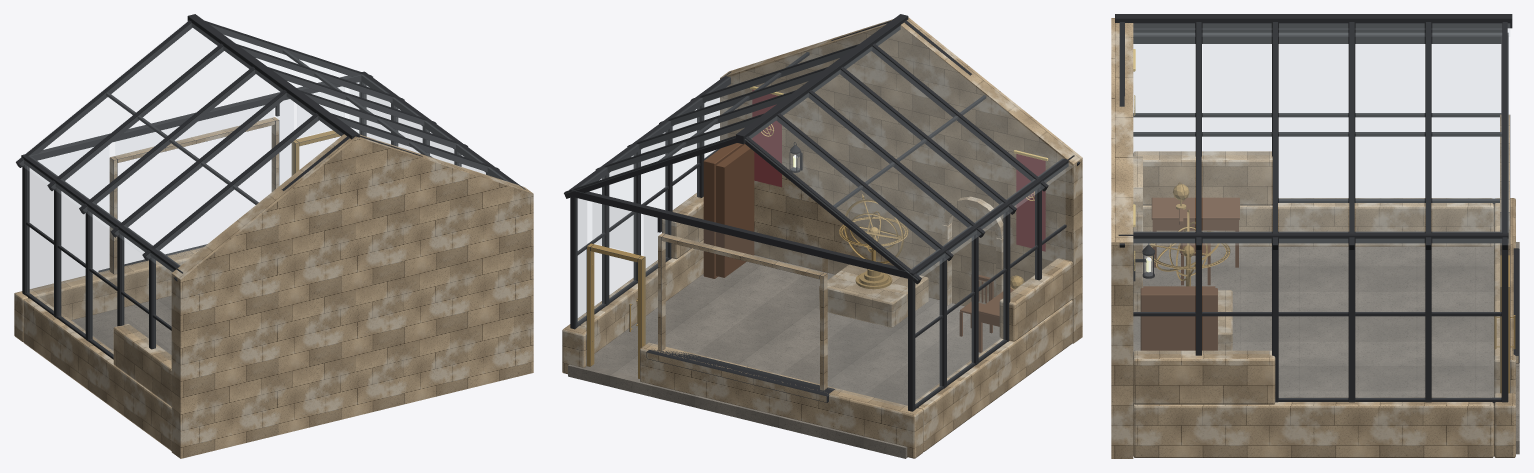
Rendered from sanctuary_observatory.glb.
3 views of the same model, side by side, from view 1: azimuth 30°, elevation 25°; view 2: azimuth 150°, elevation 25°; view 3: azimuth 270°, elevation 25° (orthographic). The views are drawn at different scales.
Visible parts, largest first — view 1: Room_BackWall, Room_Roof, Room_Frame, Room_Walls, Room_Base, Window_Frame, Room_Floor, Door_Frame; view 2: Room_BackWall, Room_Roof, Room_Walls, Room_Frame, Room_Floor, Room_Base, Window_Frame, Study_Bookcase, Plinth, Study_Banners, Door_Frame, Armillary (+3 smaller); view 3: Room_Walls, Room_Roof, Room_Base, Room_Floor, Room_Frame, Room_BackWall, Study_Bookcase, Study_Desk, Window_Frame, Rear_Arch, Armillary, Door_Frame (+2 smaller).
Part boxes in pixels (x1,y1,x2,y2): Room_BackWall: (171,134,533,458); Room_Roof: (18,21,506,274); Room_Frame: (16,14,525,359); Room_Walls: (27,82,485,360); Room_Base: (14,247,203,450); Window_Frame: (98,117,279,274); Room_Floor: (71,296,171,354); Door_Frame: (291,130,340,175); Room_BackWall: (720,17,1082,343); Room_Roof: (582,26,1072,279); Room_Walls: (577,96,1064,407); Room_Frame: (564,14,1080,411); Room_Floor: (568,255,1000,458); Room_Base: (562,193,1072,458); Window_Frame: (646,233,834,402); Study_Bookcase: (703,143,754,278); Plinth: (819,264,928,327); Study_Banners: (752,89,1045,251); Door_Frame: (586,243,645,378); Armillary: (839,194,908,289); Room_Walls: (1134,44,1500,397); Room_Roof: (1133,24,1509,244); Room_Base: (1133,151,1515,457); Room_Floor: (1133,242,1519,454); Room_Frame: (1115,14,1512,403); Room_BackWall: (1111,18,1133,458); Study_Bookcase: (1140,286,1217,350); Study_Desk: (1151,197,1239,267); Window_Frame: (1500,114,1519,363); Rear_Arch: (1133,156,1142,311); Armillary: (1148,209,1230,286); Door_Frame: (1494,255,1515,393).
Bounding box in the file's own units: 6.75 × 5.08 × 5.55.
13 materials, 2 textured.
